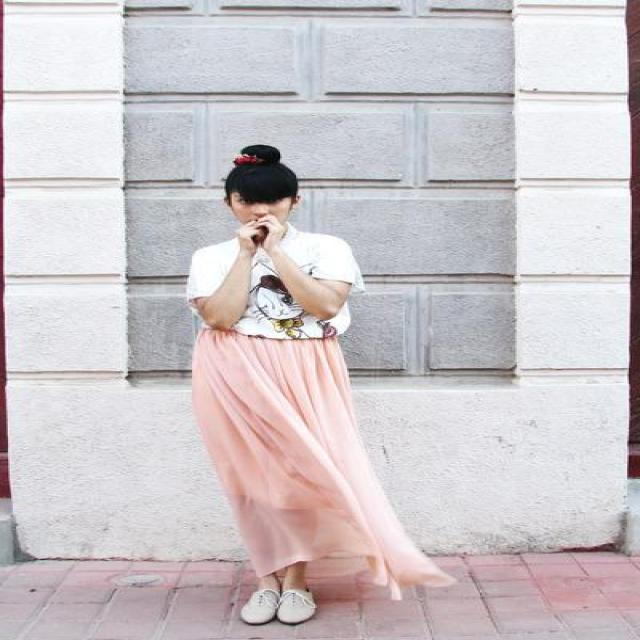shirt: (171, 232, 363, 342)
shoe: (242, 584, 314, 621)
skirt: (186, 322, 454, 599)
